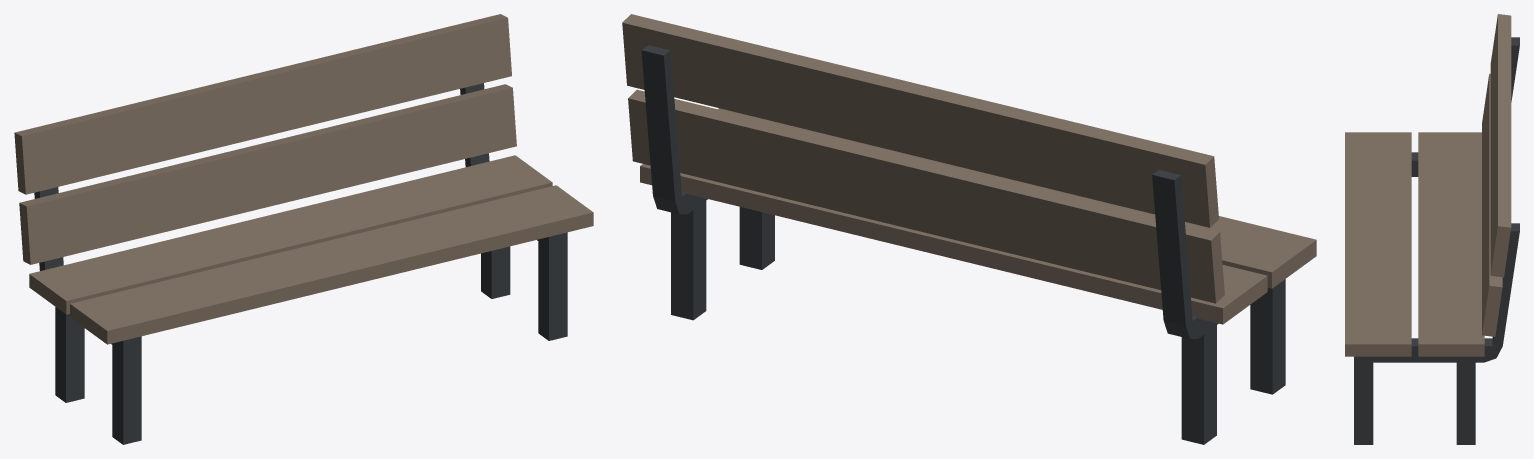
Rendered from Bench_02.fbx.
3 views of the same model, side by side, from view 1: azimuth 30°, elevation 25°; view 2: azimuth 150°, elevation 25°; view 3: azimuth 270°, elevation 25° (orthographic). The views are drawn at different scales.
Parts seen in each view (by area): view 1: Bench_02; view 2: Bench_02; view 3: Bench_02.
Part boxes in pixels (x1,y1,x2,y2): Bench_02: [14, 14, 593, 444]; Bench_02: [622, 14, 1316, 444]; Bench_02: [1345, 14, 1519, 444].
Bounding box in the file's own units: 193 × 96.91 × 67.39.
